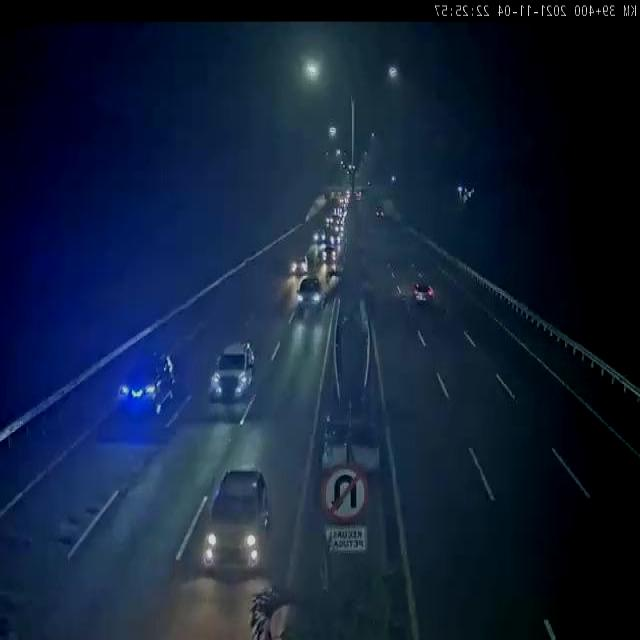Car: (200, 468, 272, 578), (116, 348, 176, 426), (210, 339, 258, 406), (294, 275, 324, 317), (411, 280, 436, 308), (287, 254, 309, 275), (322, 247, 336, 265), (313, 230, 326, 244), (328, 234, 341, 247), (376, 207, 386, 221)
